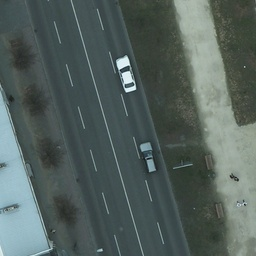car: (115, 55, 136, 94), (140, 142, 158, 174)
